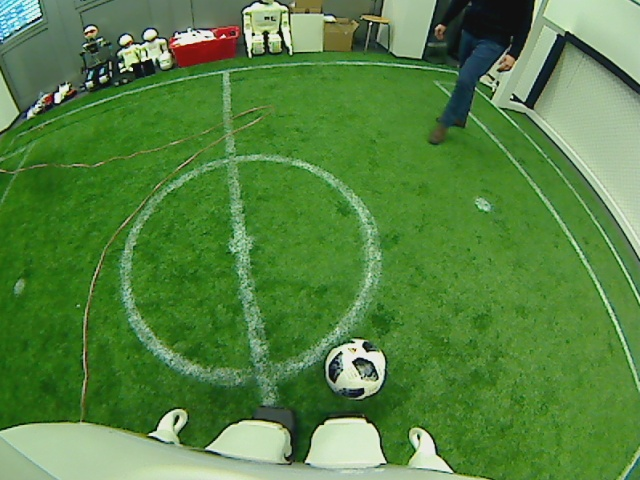ball: (321, 336, 388, 401)
